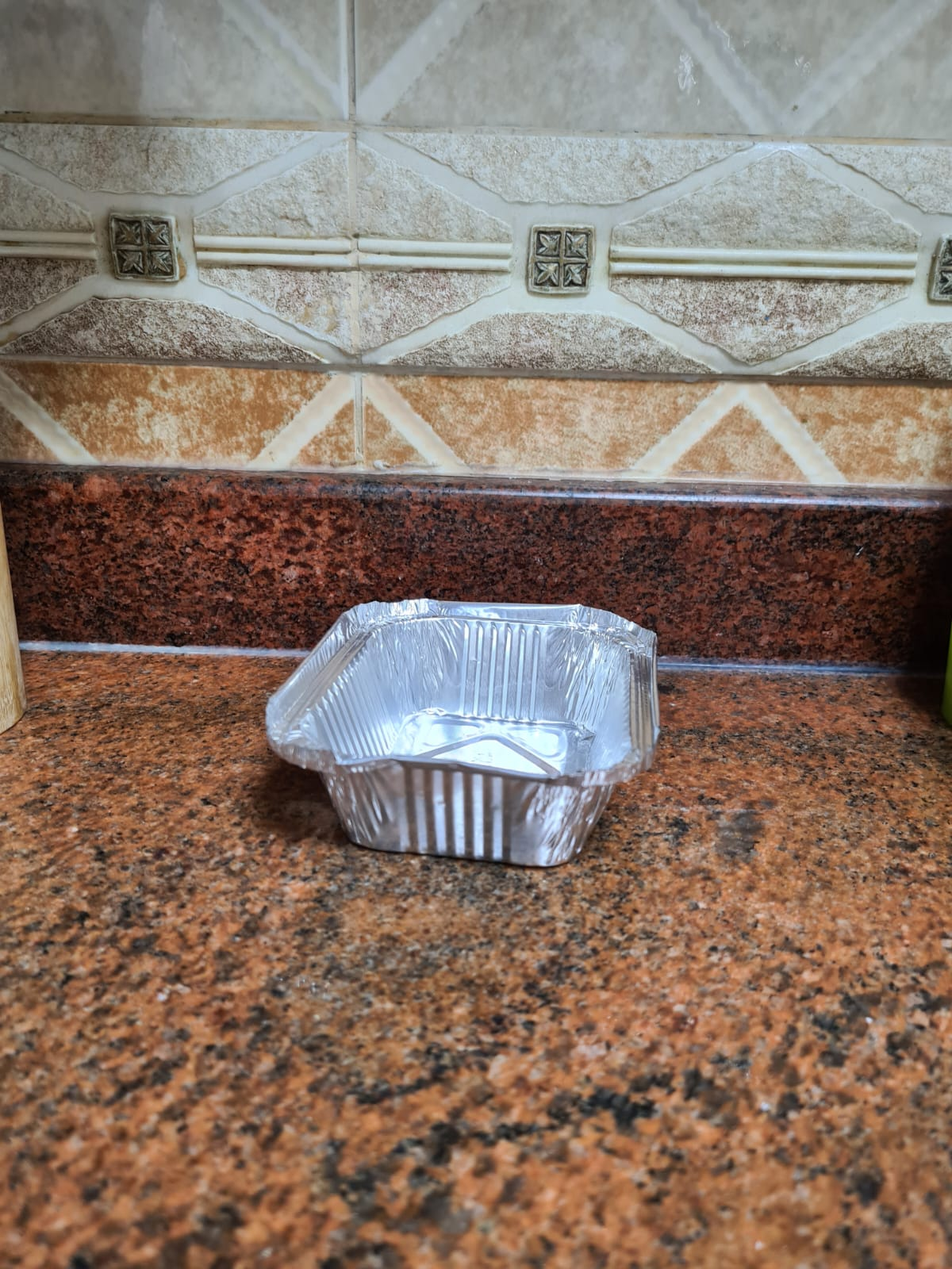Metal: (256, 585, 667, 884)
